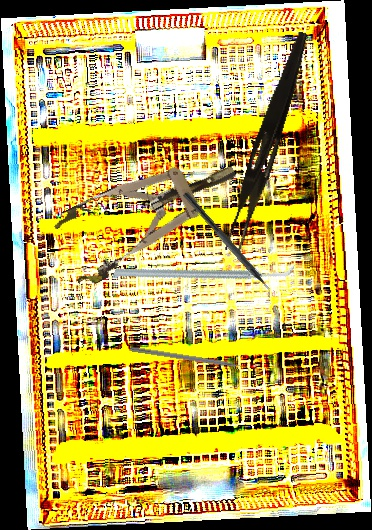Chopper: (112, 197, 296, 344), (175, 190, 281, 306), (127, 346, 257, 378)
Dressing Forceps: (223, 28, 312, 256)
Speculum: (47, 136, 252, 291)
